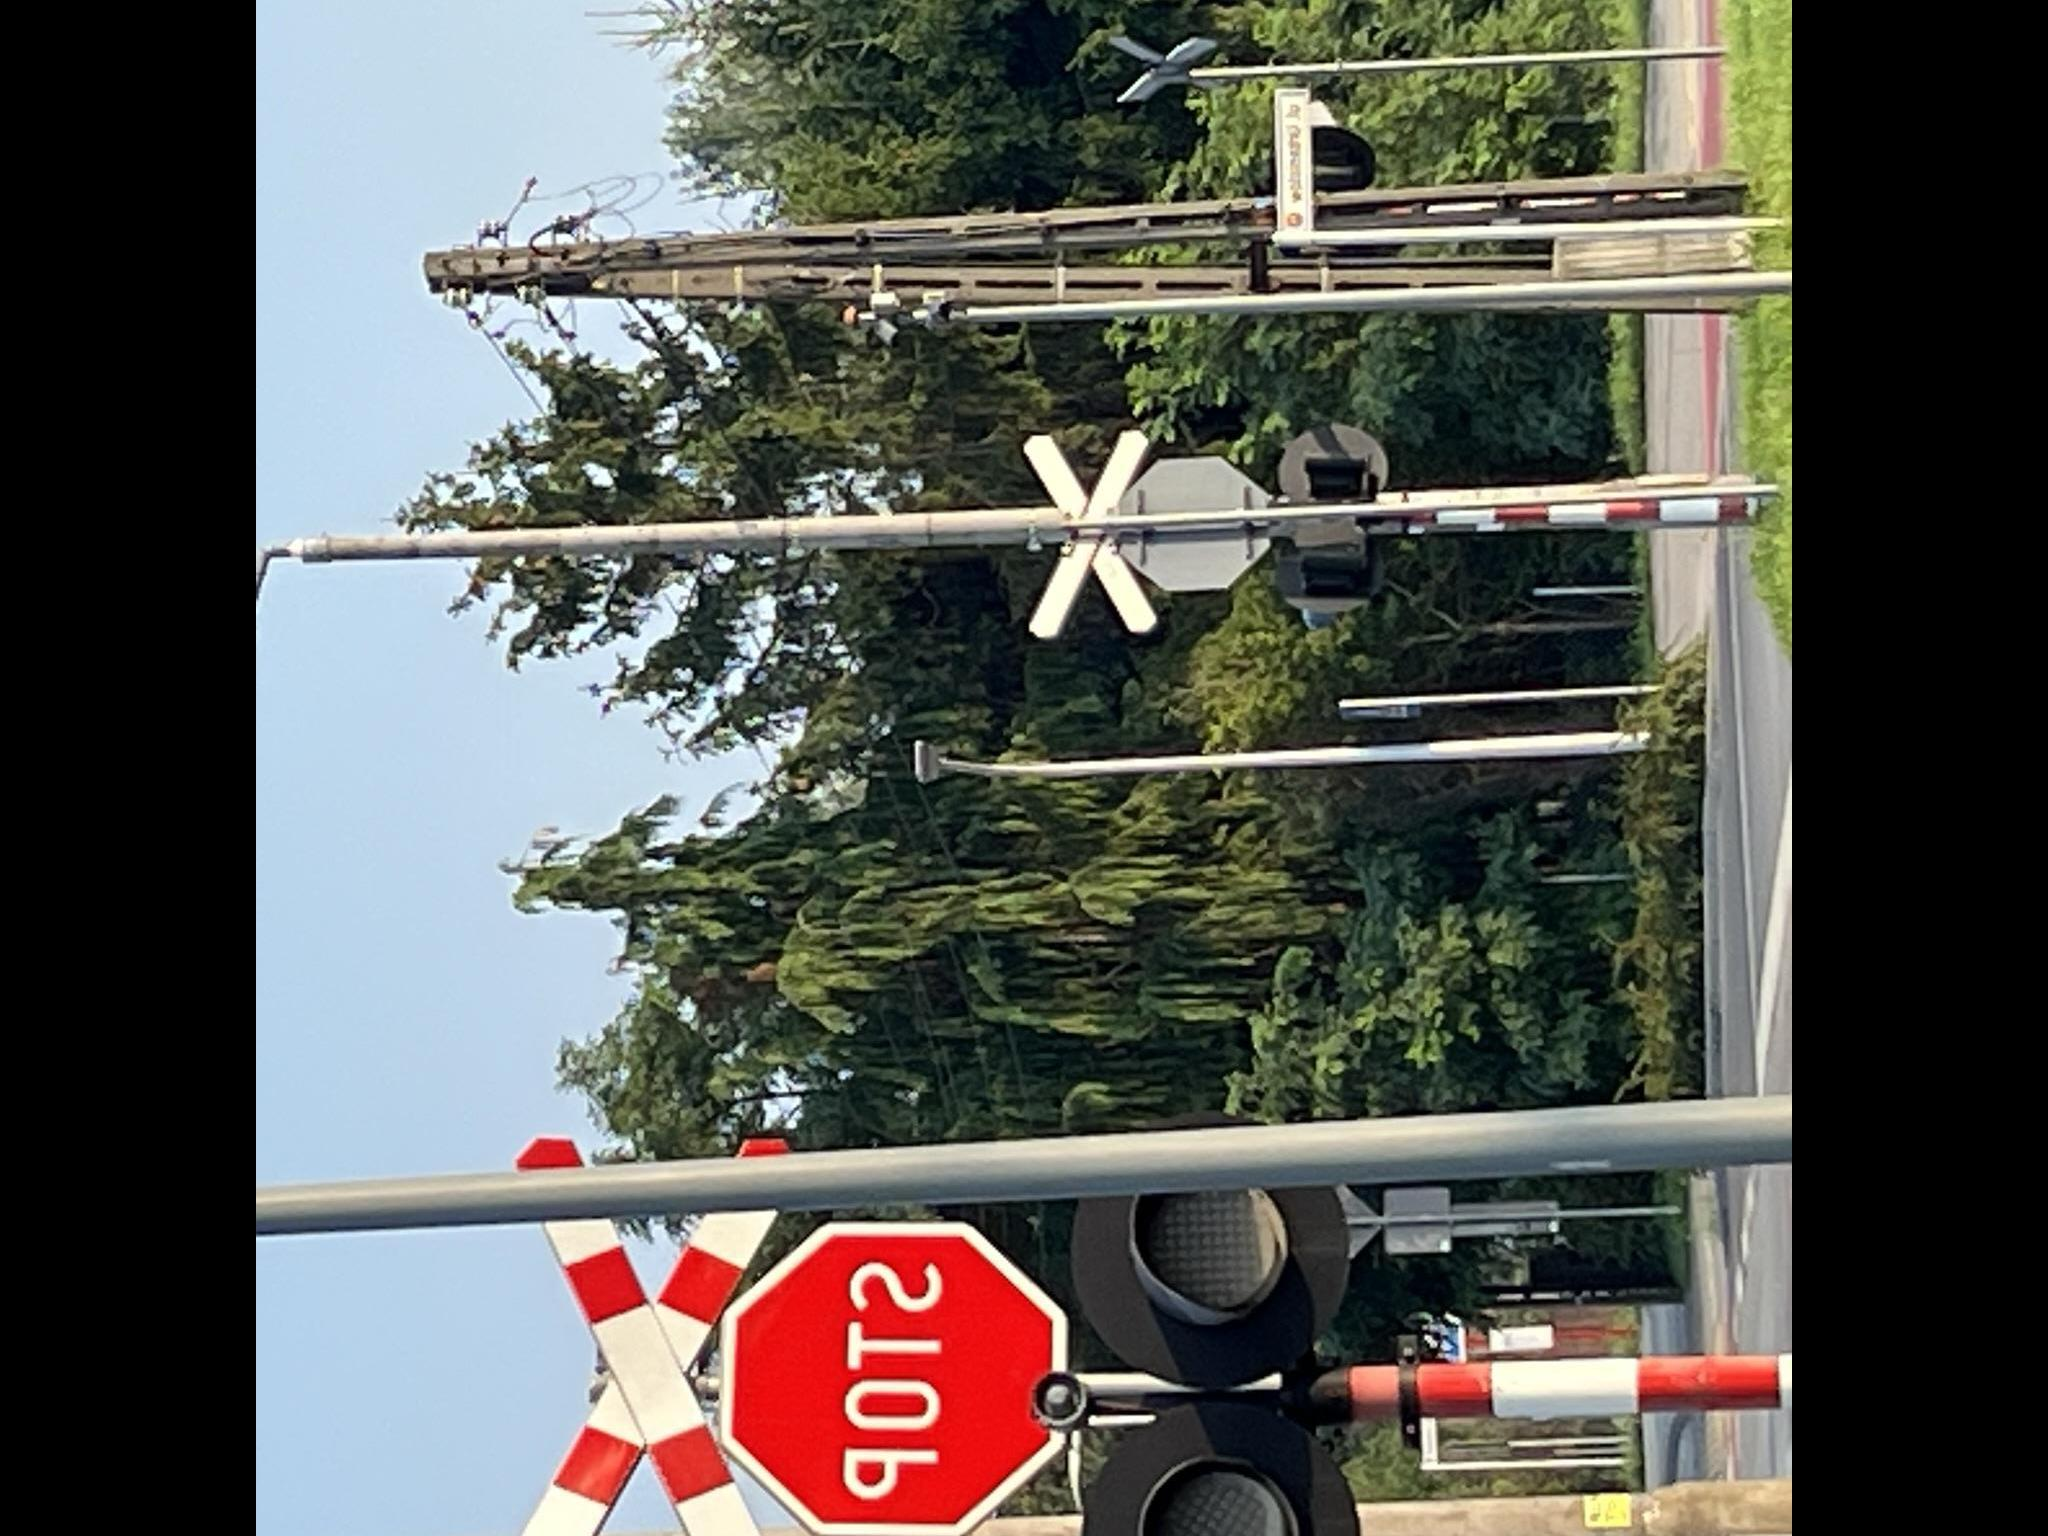prohibitory: (718, 1220, 1072, 1536)
